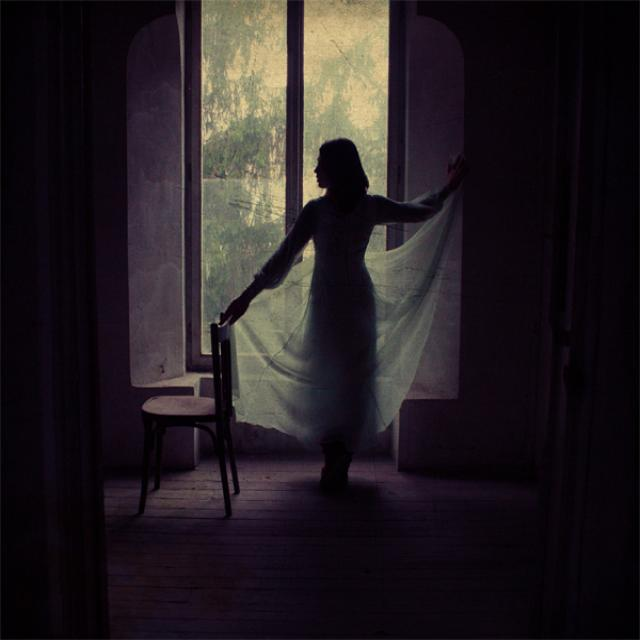People: (246, 113, 486, 527)
chair: (132, 314, 260, 533)
